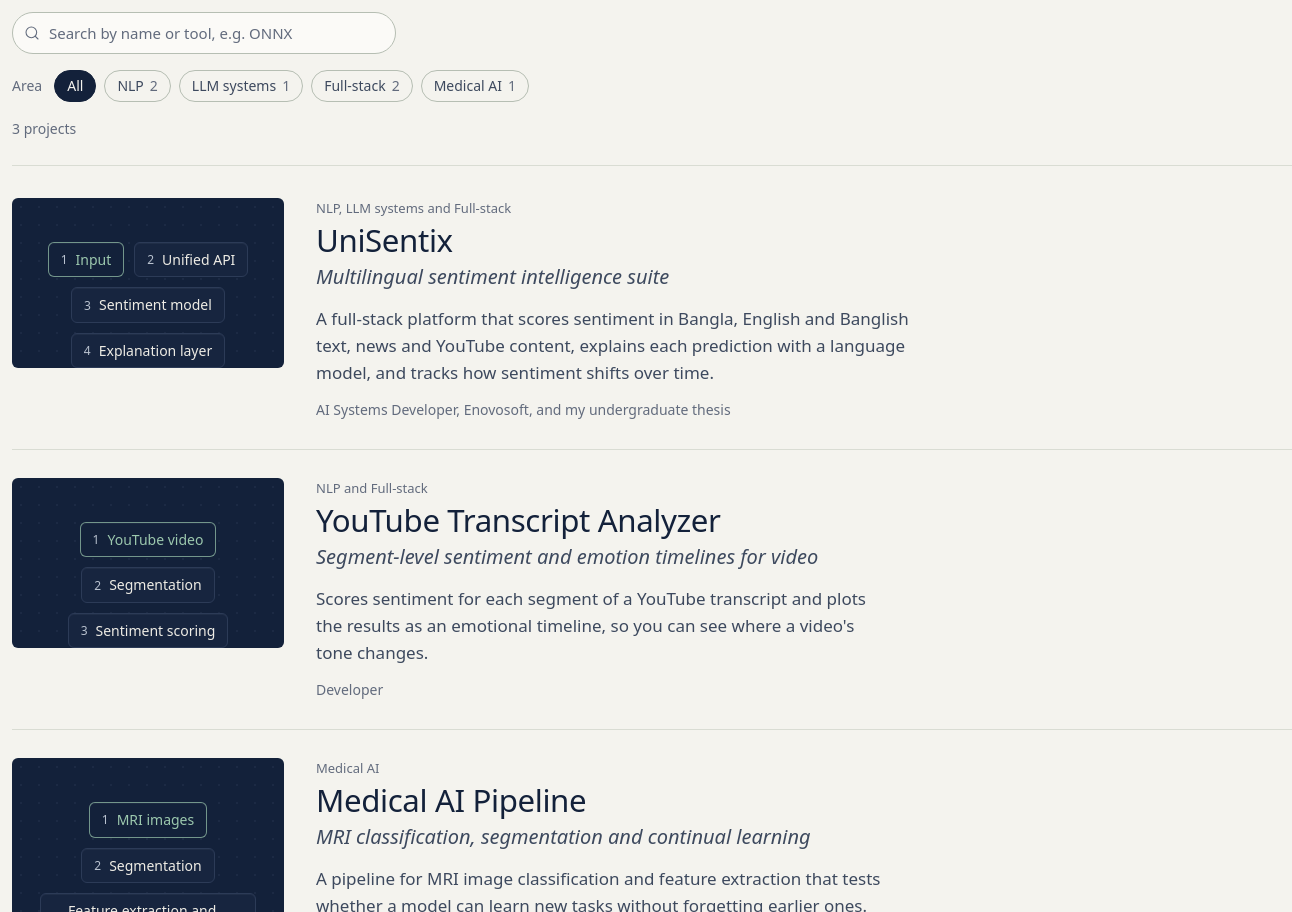
Scenario: ProjectExplorer › filters by area and search
Click the button "Medical AI1": (475,86) [421,70,529,102]
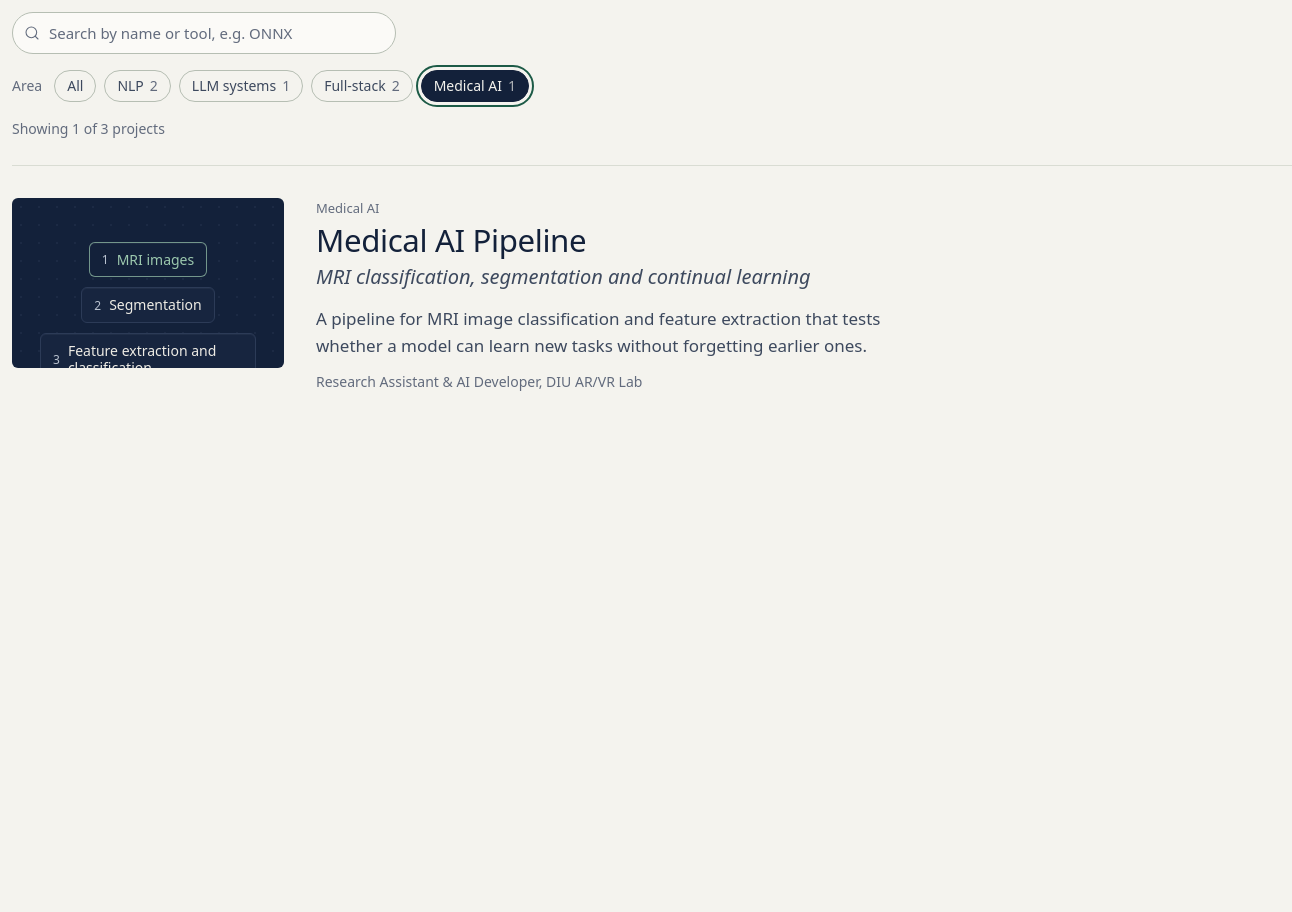
Expected: the message reads "Showing 1 of 3 projects", [12,119,165,138]
Click the button "All": (75,86) [54,70,96,102]
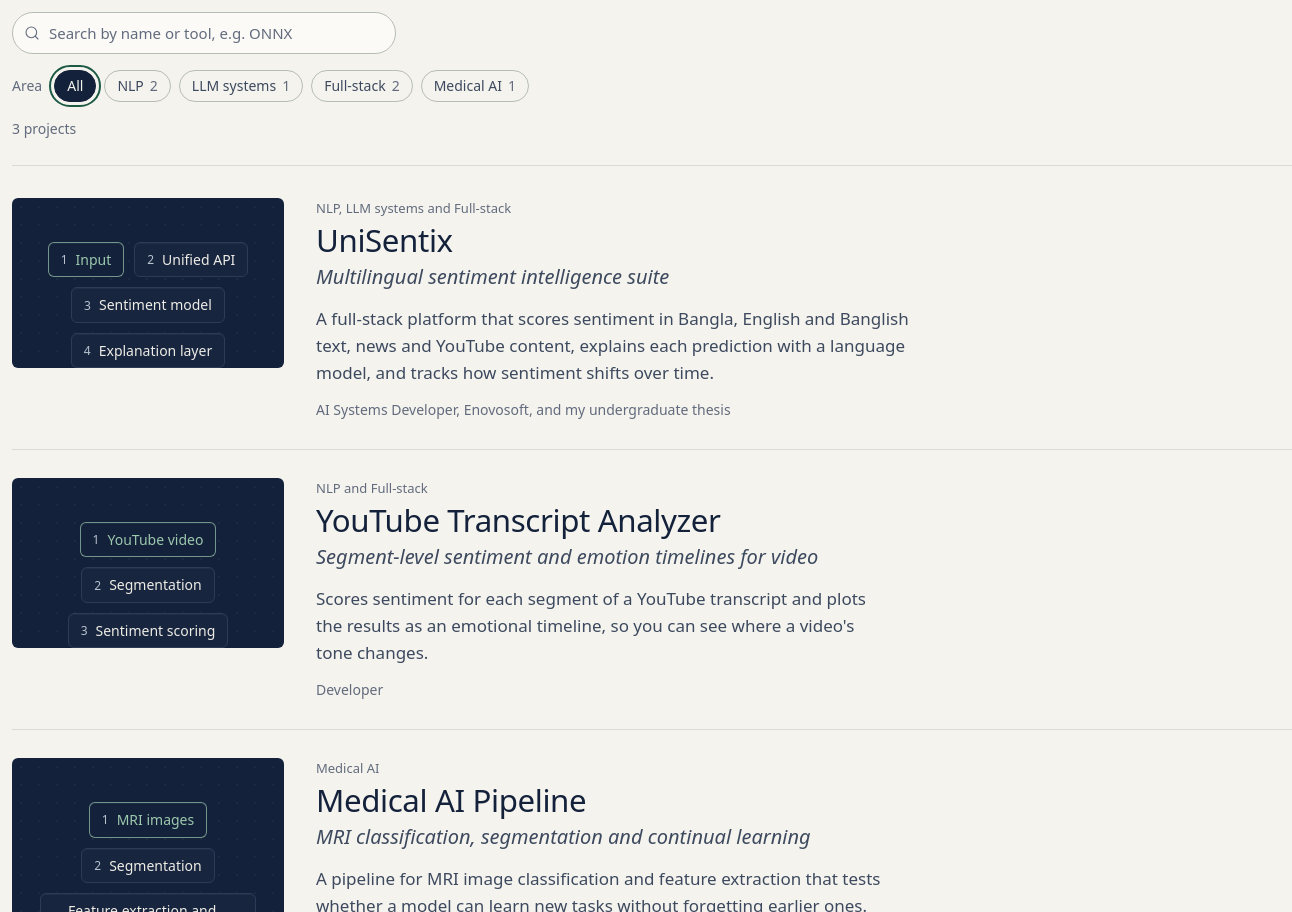
In the search field named "Search projects": (204,33) [12,12,396,54], type "onnx"
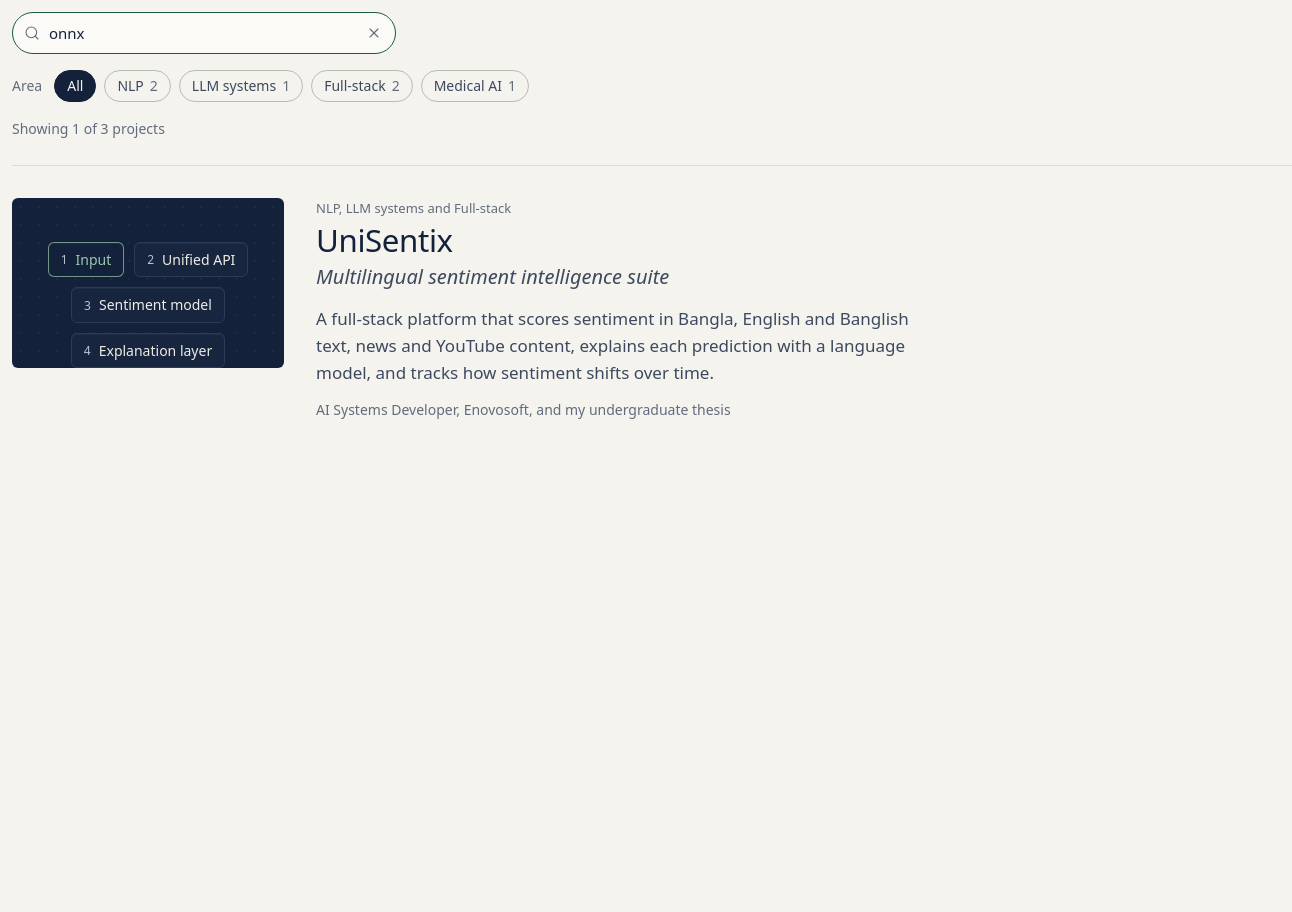
Expected: the heading "UniSentix" is shown, [316,219,453,261]
Expected: the message reads "Showing 1 of 3 projects", [12,119,165,138]
